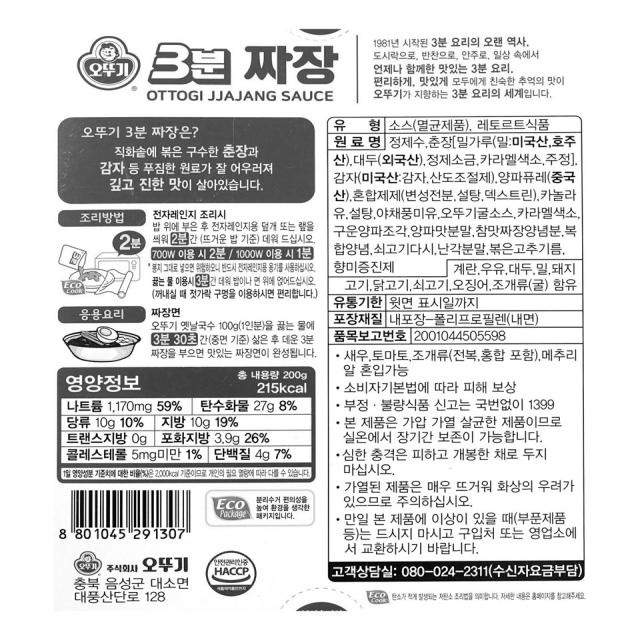Nutrition Label: (52, 364, 321, 488)
